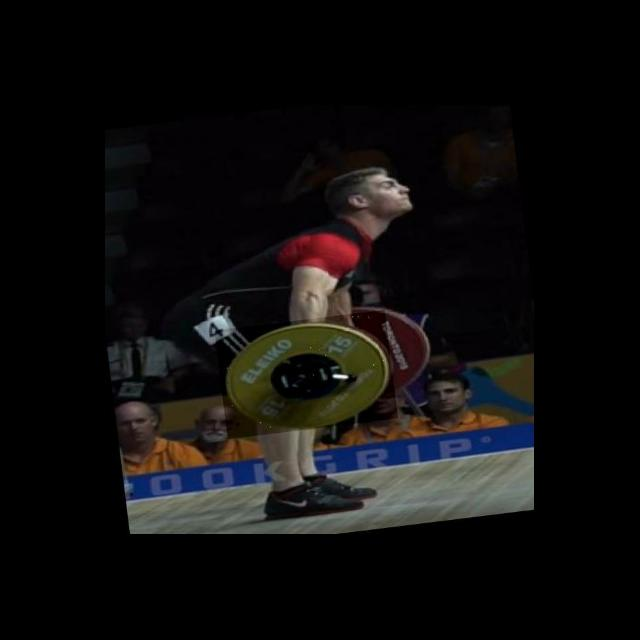barbell: (214, 310, 398, 439)
